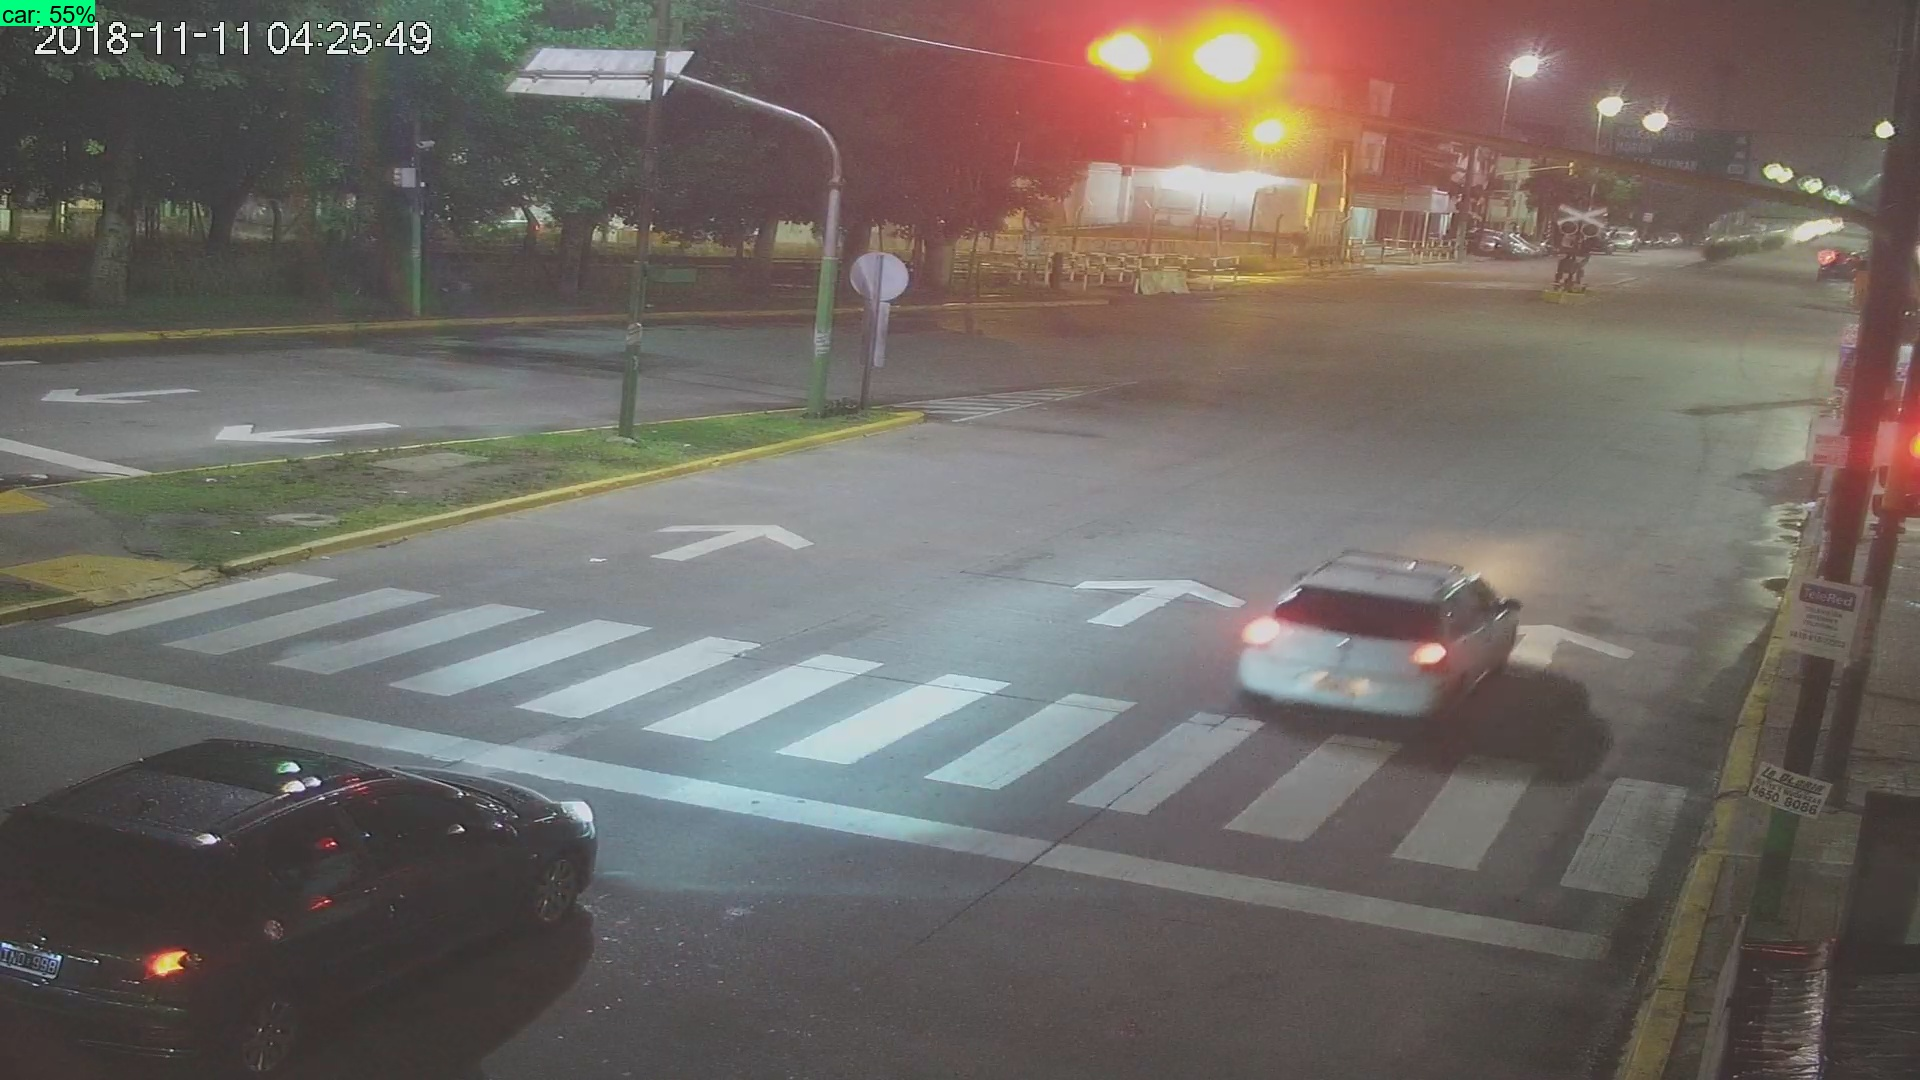car: (1, 737, 611, 1071), (1241, 545, 1523, 738)
